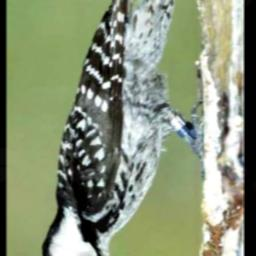Woodpecker: (43, 0, 205, 256)
